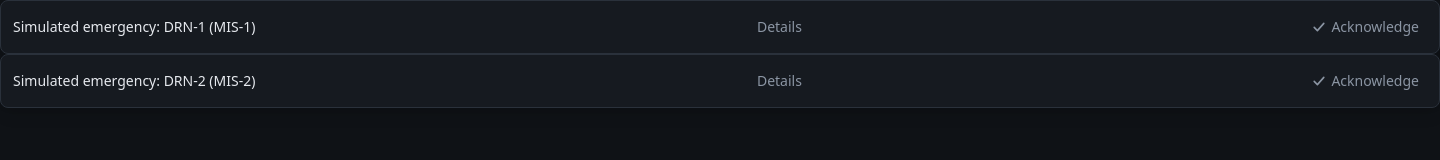
Test: LiveDataNotices acknowledgement › hides the alert only after the server confirmed, and refreshes the flights
Later steps or results of the test are not shown.
Click the button with aria-label "Acknowledge emergency for DRN-1" at (1365, 27), box [1303,7,1427,47]
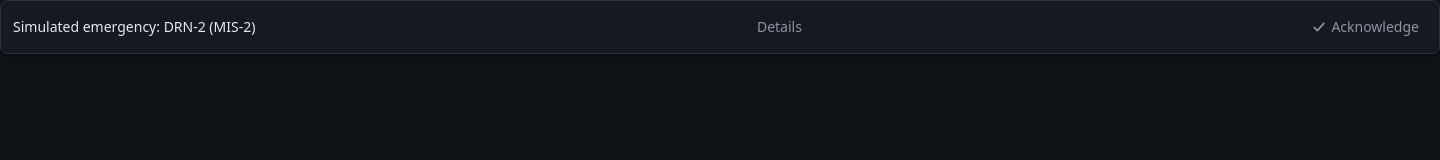
Expected: the text "Simulated emergency: DRN-2 (MIS-2)" is shown, [13,17,255,37]
Expected: the text "DRN-1 (MIS-1)" is gone
